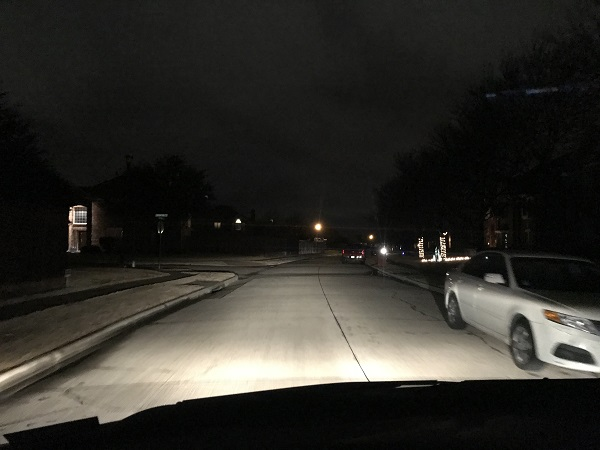car: (440, 247, 600, 373)
truck: (337, 241, 365, 264)
